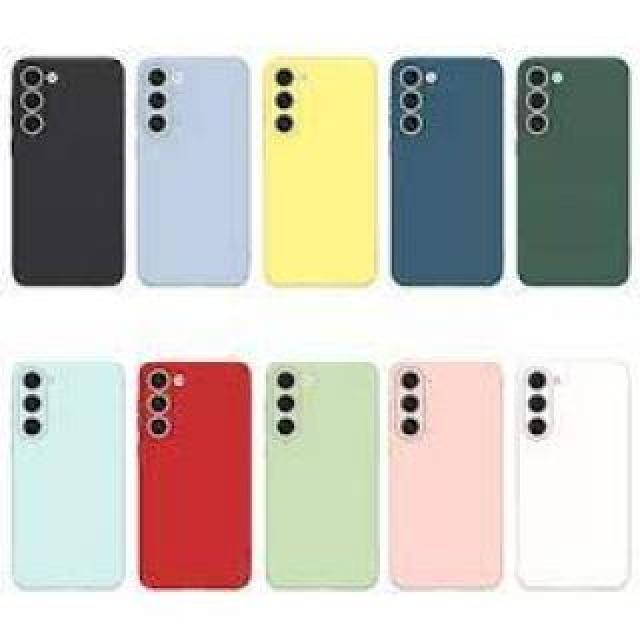smart phone: (133, 338, 260, 620), (264, 35, 398, 297), (3, 45, 127, 315), (510, 33, 633, 292), (142, 32, 260, 290), (2, 348, 125, 592), (398, 39, 507, 294), (262, 353, 378, 592), (383, 362, 500, 582), (518, 354, 620, 548)
